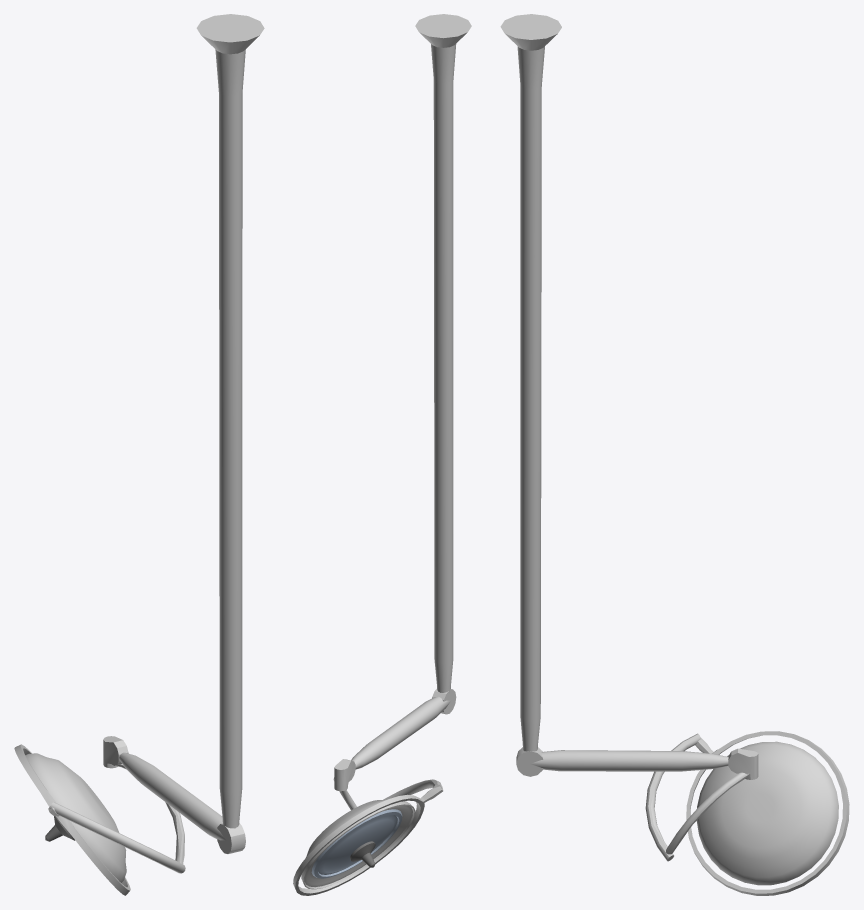
The model's file is op_lamp_long.fbx.
3 renders of one model, left to right at view 1: azimuth 30°, elevation 25°; view 2: azimuth 150°, elevation 25°; view 3: azimuth 270°, elevation 25°, orthographic. The views are drawn at different scales.
Visible parts, largest first — view 1: Sphere; view 2: Sphere; view 3: Sphere.
Boxes of the visible parts, x1=… form: Sphere: x1=14, y1=14, x2=264, y2=895; Sphere: x1=293, y1=14, x2=471, y2=895; Sphere: x1=500, y1=14, x2=849, y2=895.
Bounding box in the file's own units: 2.6 × 18.48 × 6.78.
